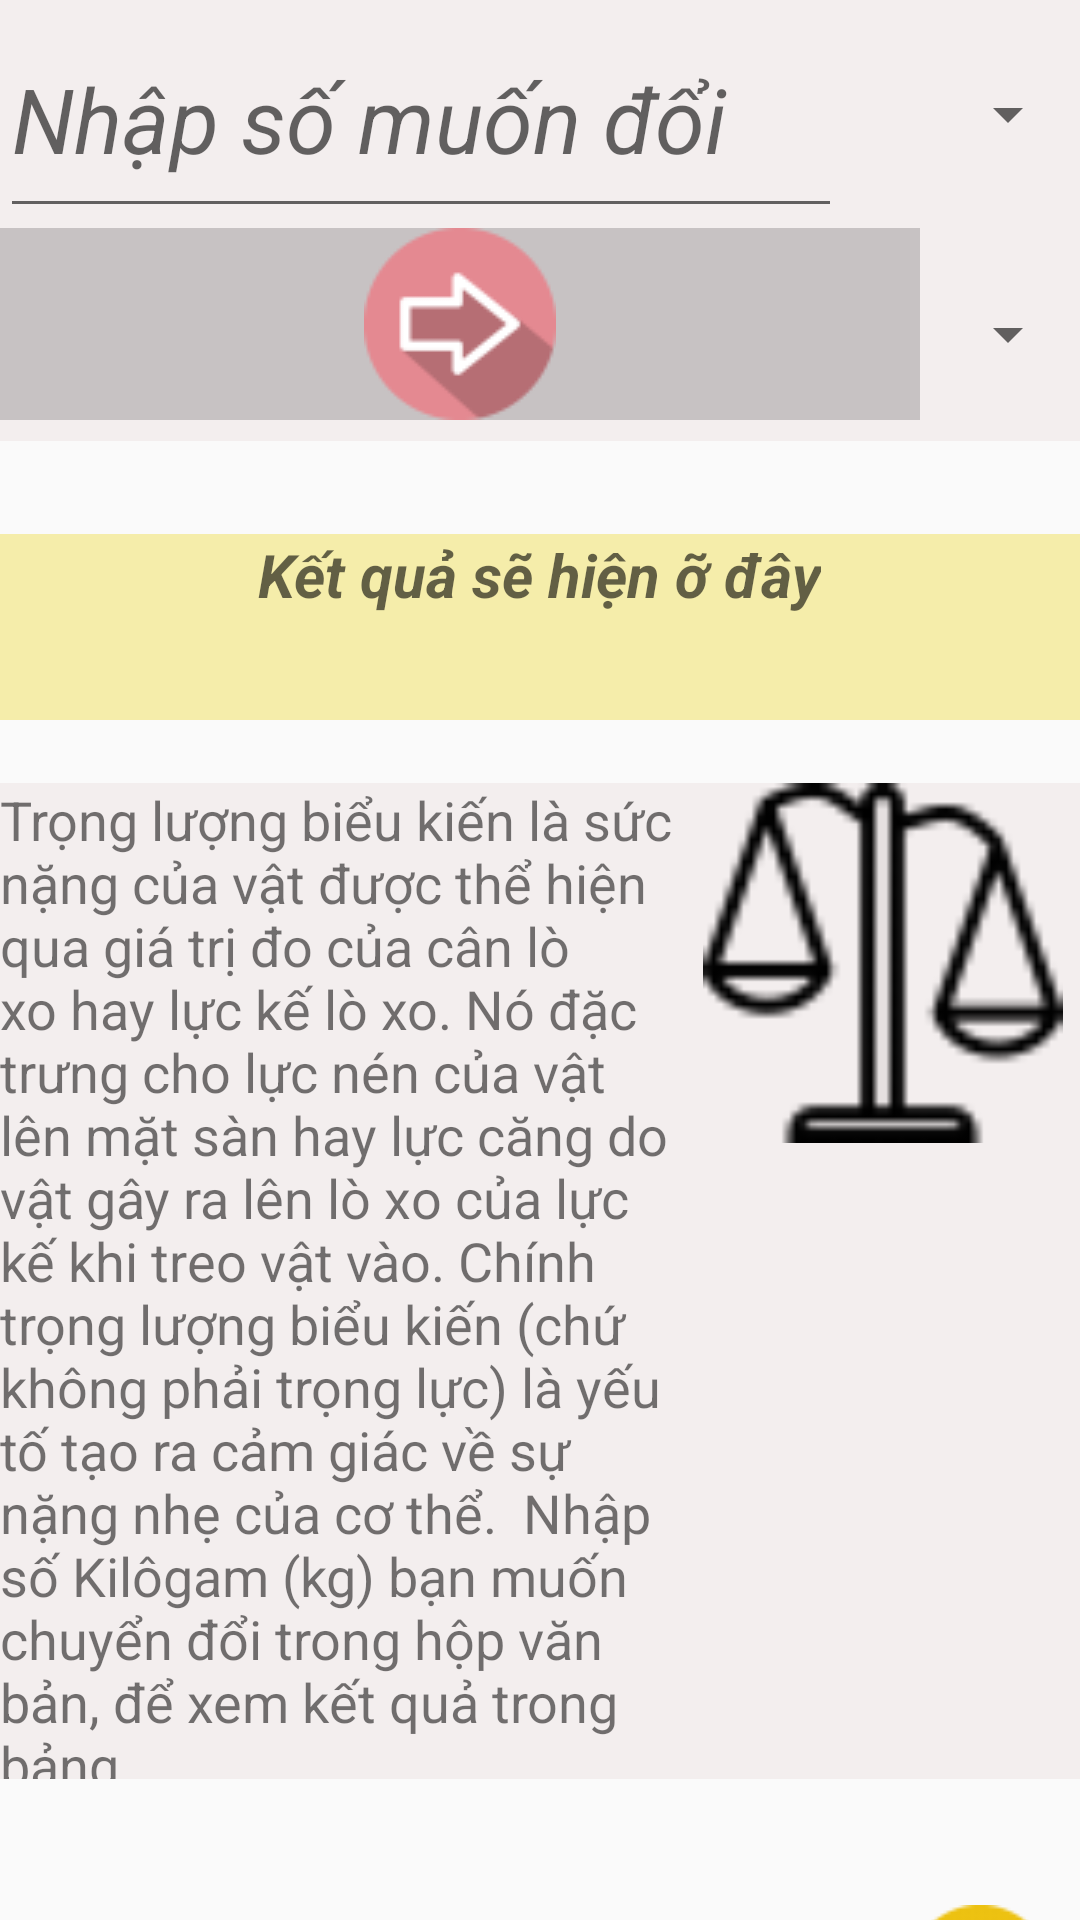

Icons on this 1080 x 1920 Android screen, each with the point to tap as (x=x, y=y):
scaleicon: (x=883, y=963)
